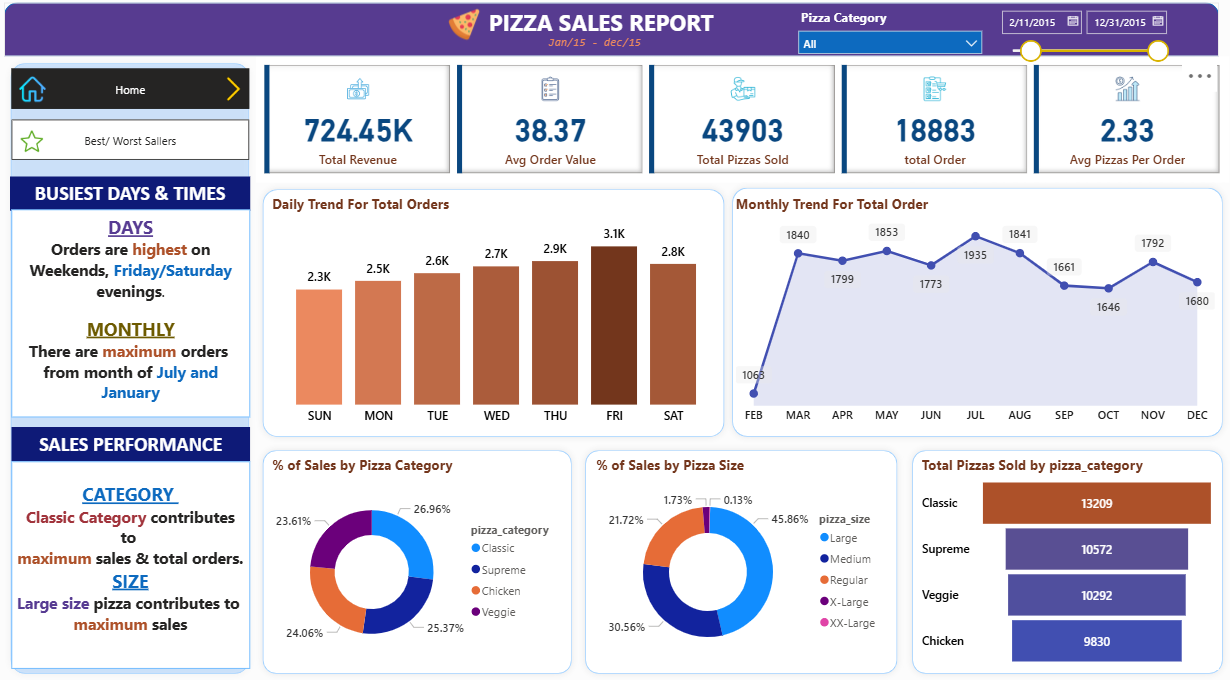

The dashboard page shown, as its layout file describes it:
{"tool":"powerbi","page":{"name":"Home","canvas":[1500,820],"ordinal":0},"visuals":[{"type":"shape","box":[28.6,76.8,300,742.9],"z":0},{"type":"cardVisual","fields":{"Data":["pizza_sales.Total Revenue","pizza_sales.Total Avg Value","pizza_sales.Total Pizzas Sold","pizza_sales.total Order","pizza_sales.Avg Pizzas Per Order"]},"box":[328.6,76.8,1158.9,150],"z":1000},{"type":"shape","box":[28.6,12.5,1446.4,64.3],"z":2000},{"type":"textbox","box":[592.2,12.5,293.8,51.6],"z":3000},{"type":"textbox","box":[667.2,45.3,128.1,34.4],"z":4000},{"type":"image","box":[550,14.1,53.1,48.4],"z":5000},{"type":"shape","box":[328.1,226.6,565.6,310.9],"z":6000},{"type":"columnChart","title":"Daily Trend For Total Orders","fields":{"Category":["pizza_sales.Order Day"],"Y":["pizza_sales.total Order"]},"box":[342.2,240.6,543.8,282.8],"z":7000},{"type":"shape","box":[887.5,225,600,312.5],"z":8000},{"type":"areaChart","title":"Monthly Trend For Total Order","fields":{"Y":["pizza_sales.total Order"],"Category":["pizza_sales.Order Month"]},"box":[894.6,241.1,580.4,282.1],"z":9000},{"type":"shape","box":[328.6,537.5,383.9,282.1],"z":10000},{"type":"shape","box":[712.5,537.5,387.5,282.1],"z":11000},{"type":"shape","box":[1101.8,537.5,385.7,282.1],"z":12000},{"type":"donutChart","title":"% of Sales by Pizza Category","fields":{"Category":["pizza_sales.pizza_category"],"Y":["pizza_sales.Total Revenue"]},"box":[342.9,551.8,355.4,255.4],"z":13000},{"type":"donutChart","title":"% of Sales by Pizza Size","fields":{"Y":["pizza_sales.Total Revenue"],"Category":["pizza_sales.pizza_size"]},"box":[728.6,551.8,355.4,255.4],"z":14000},{"type":"funnel","fields":{"Category":["pizza_sales.pizza_category"],"Y":["pizza_sales.Total Pizzas Sold"]},"box":[1116.1,551.8,358.9,255.4],"z":15000},{"type":"textbox","box":[35.1,219.3,286,40.4],"z":16000},{"type":"textbox","box":[36.8,259.6,284.2,247.4],"z":17000},{"type":"textbox","box":[36.8,517.5,284.2,40.4],"z":18000},{"type":"textbox","box":[36.7,559.2,283.7,246.9],"z":19000},{"type":"slicer","fields":{"Values":["pizza_sales.pizza_category"]},"box":[964.9,14,238.6,63.2],"z":20000},{"type":"slicer","fields":{"Values":["pizza_sales.order_date"]},"box":[1203.1,12.5,220.3,79.7],"z":21000},{"type":"pageNavigator","box":[36.7,91.7,283.3,48.3],"z":22000},{"type":"pageNavigator","box":[36.7,151.7,283.3,48.3],"z":23000},{"type":"image","box":[281.6,91.8,38.8,49],"z":24000},{"type":"image","box":[36.7,95,50,41.7],"z":25000},{"type":"image","box":[41.7,158.3,41.7,36.7],"z":26000}]}

Visuals, with their boxes in screenshot pixels (x1, y1, x2, y2), scaled from the page's 1500x820 canvas onto the 1230x680 screenshot:
shape: <region>23, 64, 269, 679</region>
cardVisual - pizza_sales.Total Revenue x pizza_sales.Total Avg Value: <region>269, 64, 1220, 188</region>
shape: <region>23, 10, 1210, 64</region>
textbox: <region>486, 10, 727, 53</region>
textbox: <region>547, 38, 652, 66</region>
image: <region>451, 12, 495, 52</region>
shape: <region>269, 188, 733, 446</region>
"Daily Trend For Total Orders" columnChart: <region>281, 200, 727, 434</region>
shape: <region>728, 187, 1220, 446</region>
"Monthly Trend For Total Order" areaChart: <region>734, 200, 1210, 434</region>
shape: <region>269, 446, 584, 679</region>
shape: <region>584, 446, 902, 679</region>
shape: <region>903, 446, 1220, 679</region>
"% of Sales by Pizza Category" donutChart: <region>281, 458, 573, 669</region>
"% of Sales by Pizza Size" donutChart: <region>597, 458, 889, 669</region>
funnel - pizza_sales.pizza_category x pizza_sales.Total Pizzas Sold: <region>915, 458, 1210, 669</region>
textbox: <region>29, 182, 263, 215</region>
textbox: <region>30, 215, 263, 420</region>
textbox: <region>30, 429, 263, 463</region>
textbox: <region>30, 464, 263, 668</region>
slicer - pizza_sales.pizza_category: <region>791, 12, 987, 64</region>
slicer - pizza_sales.order_date: <region>987, 10, 1167, 76</region>
pageNavigator: <region>30, 76, 262, 116</region>
pageNavigator: <region>30, 126, 262, 166</region>
image: <region>231, 76, 263, 117</region>
image: <region>30, 79, 71, 113</region>
image: <region>34, 131, 68, 162</region>
